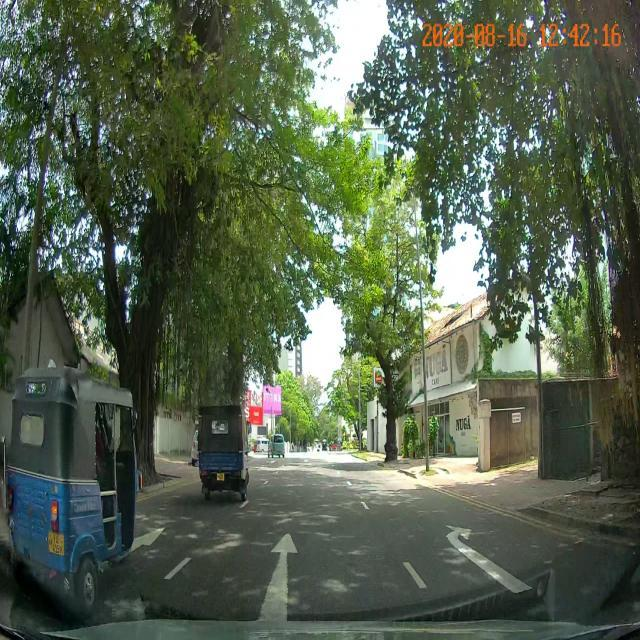forward: (131, 527, 449, 627)
right: (384, 511, 615, 628)
